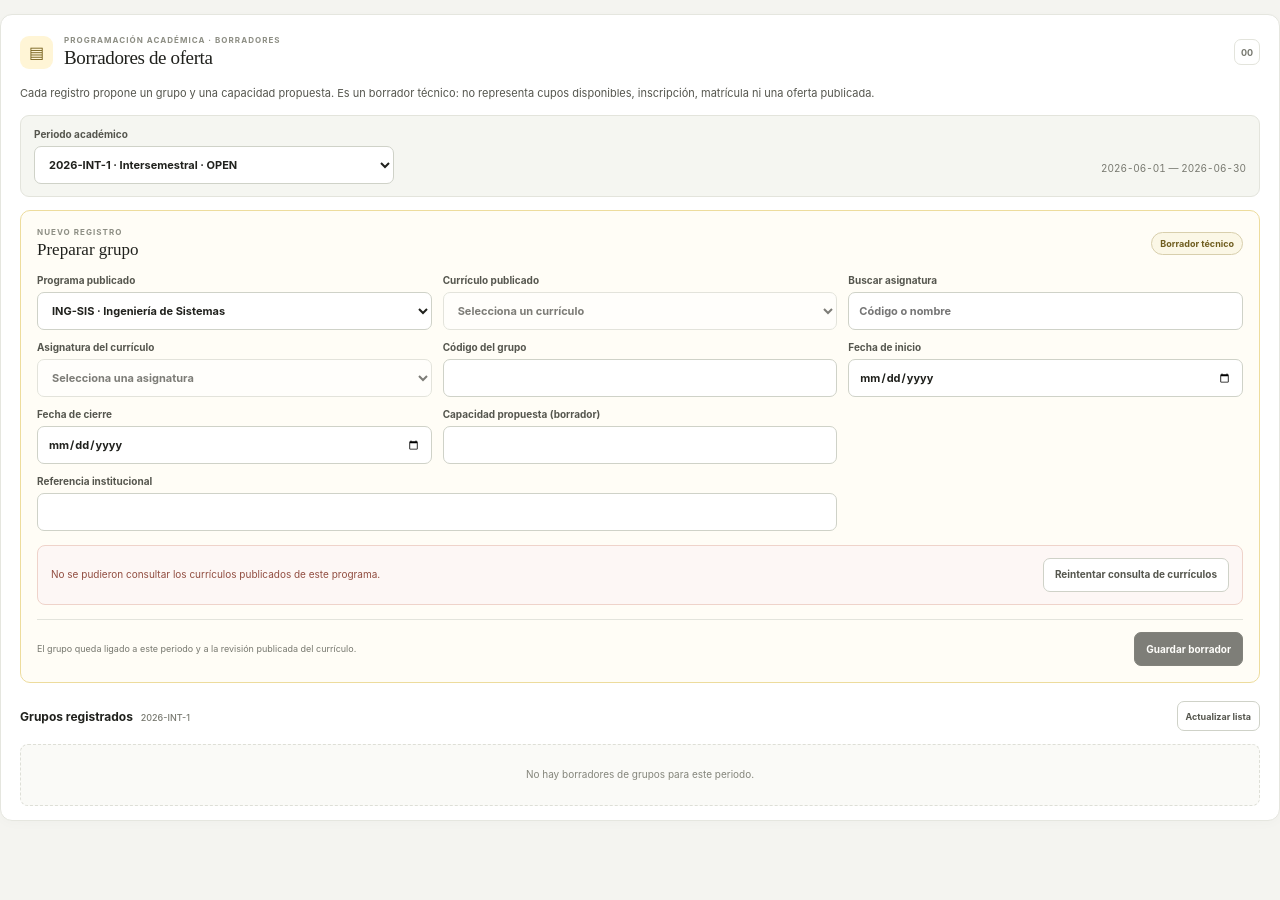
AcademicOfferingDraftPanel curriculum recovery › retries the published curriculum read without discarding the selected program
Expected: the text "No se pudieron consultar los currículos publicados" is shown, [51,568,380,580]
Expected: the dropdown labelled "Programa publicado" shows "ING-SIS · Ingeniería de Sistemas", [37,292,432,330]
What coordinates should you click on to do the following:
click the button "Reintentar consulta de currículos"
I would click on:
 (1136, 575)
Its box is [1043,558,1229,592].
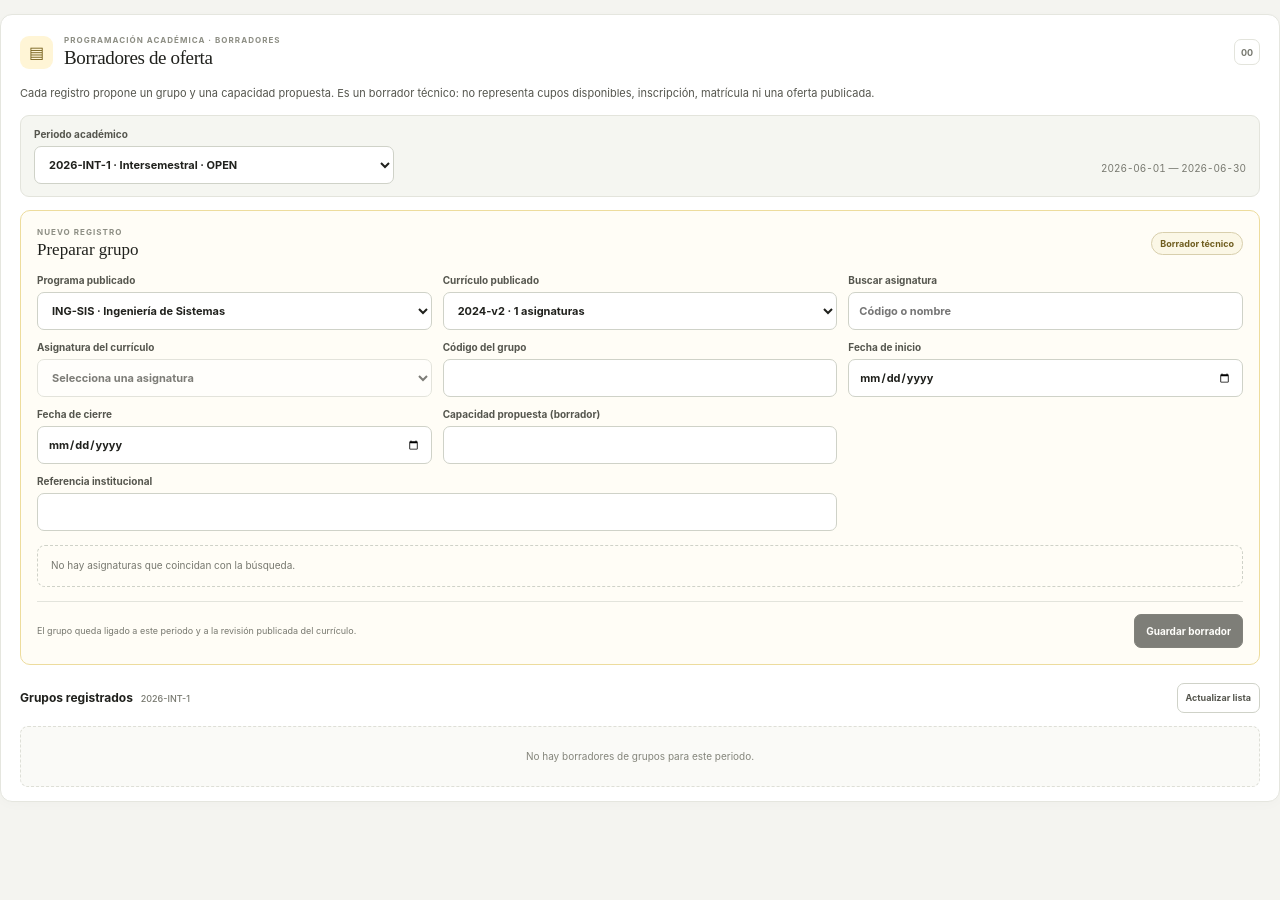
Expected: the dropdown labelled "Programa publicado" shows "ING-SIS · Ingeniería de Sistemas", [37,292,432,330]
Expected: the text "No se pudieron consultar los currículos publicados" is gone
